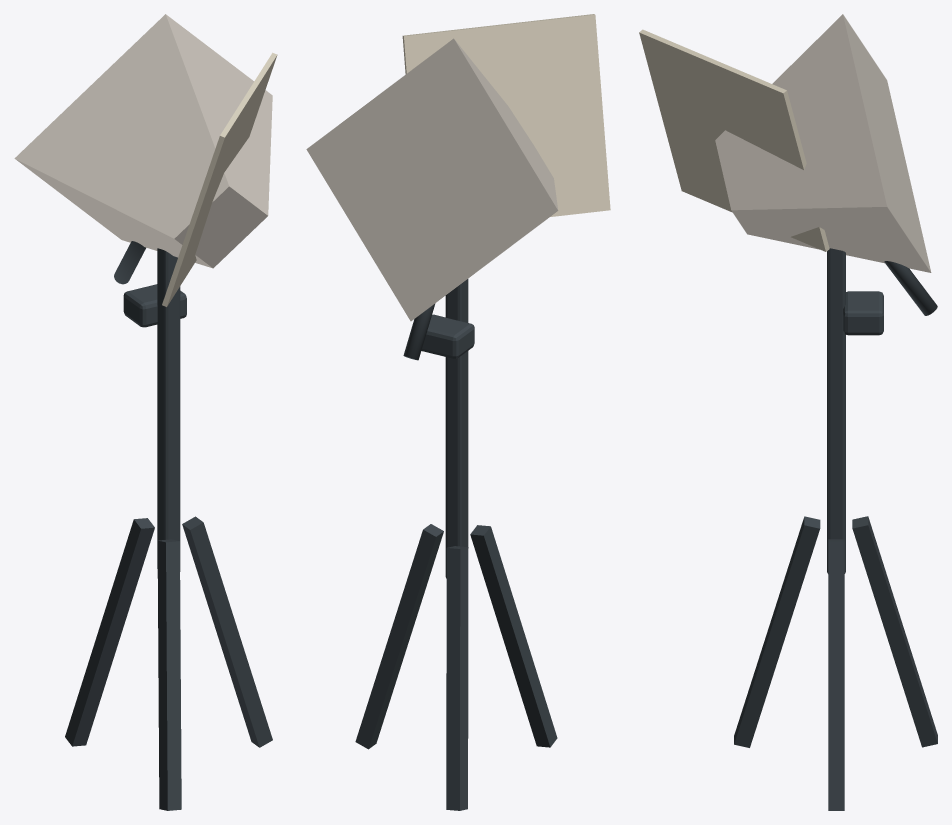
The model's file is m_softbox.glb.
The picture shows the model from 3 angles, left to right: view 1: azimuth 30°, elevation 25°; view 2: azimuth 150°, elevation 25°; view 3: azimuth 270°, elevation 25°; orthographic projection. The views are drawn at different scales.
Parts seen in each view (by area): view 1: m_softbox; view 2: m_softbox; view 3: m_softbox.
Part boxes in pixels (bbox=[...]): m_softbox: bbox=[14, 14, 277, 810]; m_softbox: bbox=[306, 14, 610, 810]; m_softbox: bbox=[639, 14, 937, 810].
Bounding box in the file's own units: 0.22 × 0.6108 × 0.2196.
